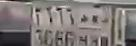3: (33, 7, 42, 46)
6: (43, 7, 55, 46), (64, 8, 74, 46), (55, 6, 64, 46)
H: (78, 13, 87, 46)
